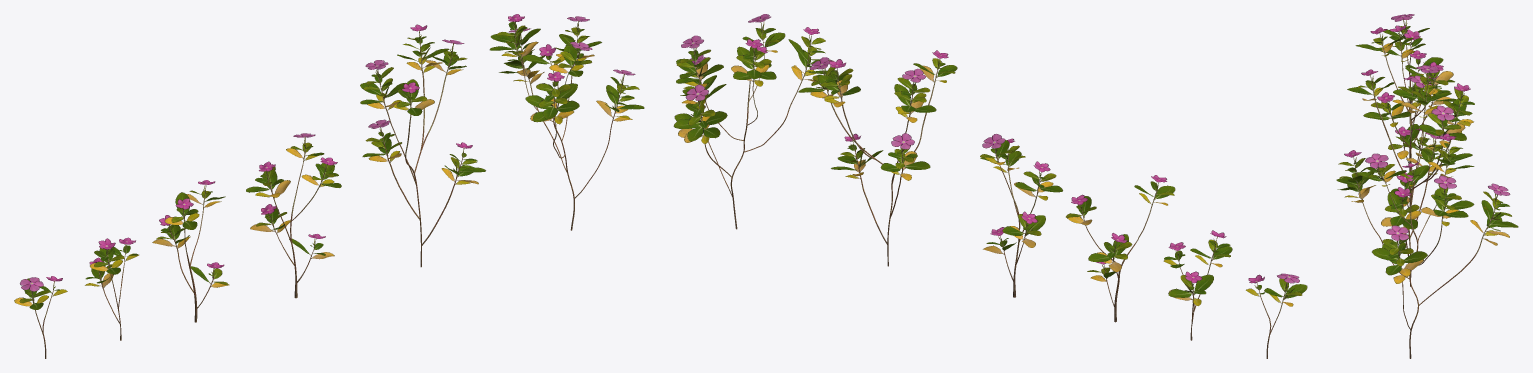
File: periwinkle_plant_1k.gltf
The picture shows the model from 3 angles, left to right: view 1: azimuth 30°, elevation 25°; view 2: azimuth 150°, elevation 25°; view 3: azimuth 270°, elevation 25°; orthographic projection. The views are drawn at different scales.
Parts seen in each view (by area): view 1: periwinkle_plant_01_LOD0, periwinkle_plant_02_LOD0, periwinkle_plant_03_LOD0, periwinkle_plant_04_LOD0, periwinkle_plant_05_LOD0, periwinkle_plant_06_LOD0; view 2: periwinkle_plant_01_LOD0, periwinkle_plant_02_LOD0, periwinkle_plant_03_LOD0, periwinkle_plant_04_LOD0, periwinkle_plant_05_LOD0, periwinkle_plant_06_LOD0; view 3: periwinkle_plant_01_LOD0, periwinkle_plant_02_LOD0, periwinkle_plant_03_LOD0, periwinkle_plant_04_LOD0, periwinkle_plant_05_LOD0, periwinkle_plant_06_LOD0.
Part boxes in pixels (x1,y1,x2,y2): periwinkle_plant_01_LOD0: [489, 14, 644, 230]; periwinkle_plant_02_LOD0: [360, 24, 485, 267]; periwinkle_plant_03_LOD0: [246, 133, 341, 298]; periwinkle_plant_04_LOD0: [152, 180, 229, 322]; periwinkle_plant_05_LOD0: [85, 237, 138, 340]; periwinkle_plant_06_LOD0: [14, 276, 67, 358]; periwinkle_plant_01_LOD0: [673, 14, 833, 229]; periwinkle_plant_02_LOD0: [798, 50, 957, 266]; periwinkle_plant_03_LOD0: [980, 134, 1062, 297]; periwinkle_plant_04_LOD0: [1066, 175, 1175, 322]; periwinkle_plant_05_LOD0: [1163, 230, 1232, 340]; periwinkle_plant_06_LOD0: [1246, 273, 1307, 358]; periwinkle_plant_01_LOD0: [1336, 133, 1518, 358]; periwinkle_plant_02_LOD0: [1347, 65, 1474, 286]; periwinkle_plant_03_LOD0: [1363, 75, 1440, 207]; periwinkle_plant_04_LOD0: [1355, 27, 1455, 171]; periwinkle_plant_05_LOD0: [1377, 25, 1454, 123]; periwinkle_plant_06_LOD0: [1383, 14, 1429, 103].
Size of the model in its own units: 1.24 by 0.4107 by 0.3207.
Materials: 1 (1 with a texture image).
